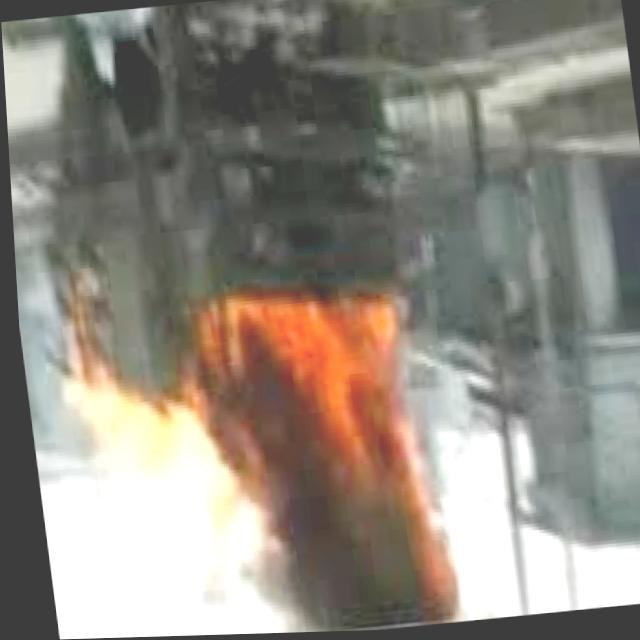Fire: (195, 293, 408, 469), (61, 367, 176, 480)
Smoke: (186, 363, 411, 636)
